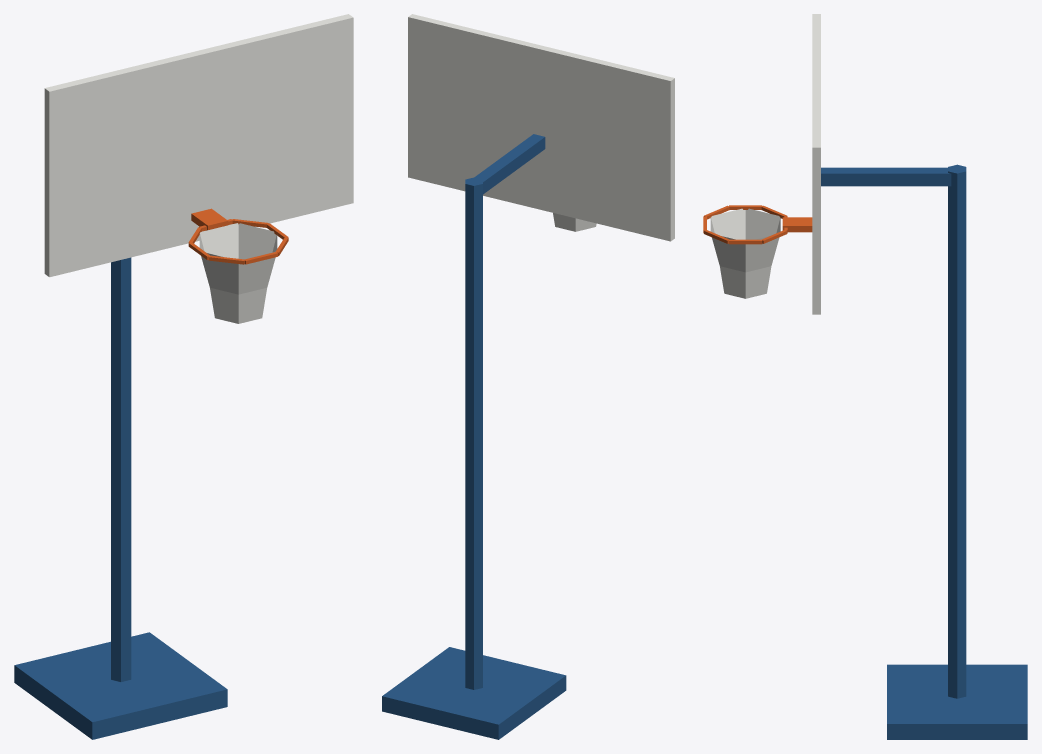
Rendered from Prop_WZ_SportsHoop_LOD1.glb.
The picture shows the model from 3 angles, left to right: view 1: azimuth 30°, elevation 25°; view 2: azimuth 150°, elevation 25°; view 3: azimuth 270°, elevation 25°; orthographic projection. The views are drawn at different scales.
Parts seen in each view (by area): view 1: Prop_WZ_SportsHoop; view 2: Prop_WZ_SportsHoop; view 3: Prop_WZ_SportsHoop.
Part boxes in pixels (<box>): Prop_WZ_SportsHoop: <box>14,14,353,739</box>; Prop_WZ_SportsHoop: <box>382,14,674,739</box>; Prop_WZ_SportsHoop: <box>703,14,1027,739</box>.
Size of the model in its own units: 1.8 by 3.95 by 1.84.
